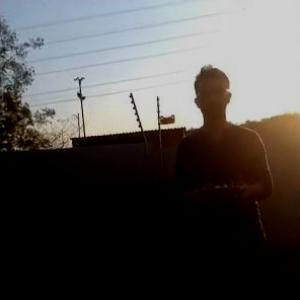follow: (168, 51, 279, 299)
